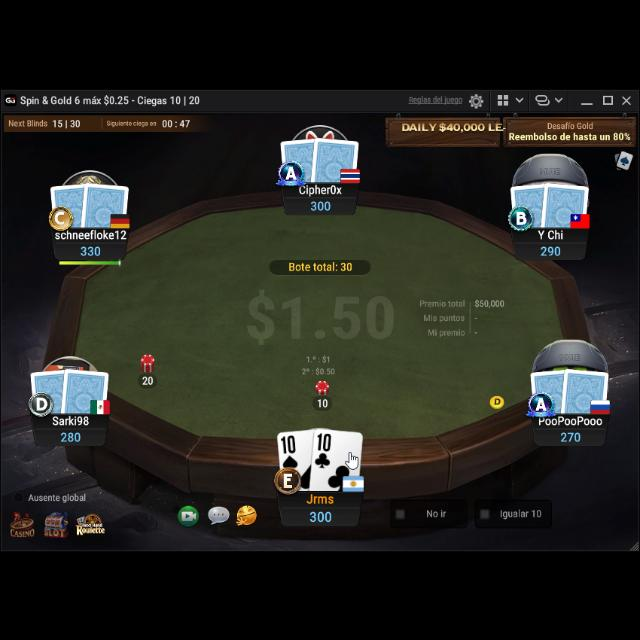Tc: (313, 429, 333, 466)
Ts: (278, 432, 298, 470)
bet_text: (141, 374, 155, 386), (317, 397, 328, 409)
card_back: (560, 363, 610, 417), (540, 176, 590, 228), (309, 133, 361, 183), (60, 364, 110, 414), (80, 177, 130, 227), (29, 364, 72, 414), (48, 180, 92, 228), (529, 364, 571, 412), (279, 134, 321, 182), (510, 178, 552, 226)
dealer: (488, 394, 506, 411)
pot_text: (287, 257, 355, 271)
stack_text: (308, 504, 332, 520), (310, 196, 332, 210), (80, 241, 102, 255), (540, 244, 562, 258), (58, 428, 82, 440), (560, 431, 582, 444)
